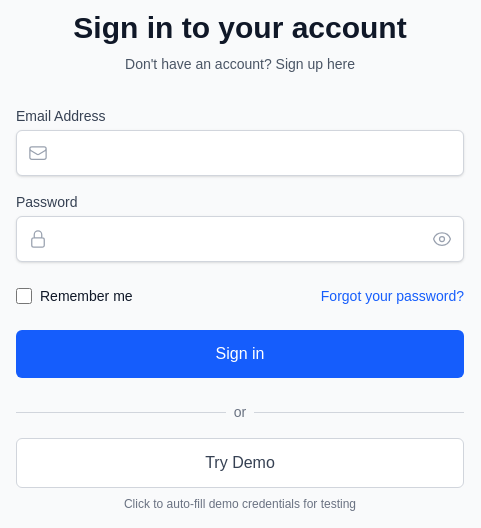
LoginPage › fills demo credentials when "Try Demo" button is clicked
Check: the field labelled "Email Address" is empty, box x1=16 y1=130 x2=464 y2=176
Check: the password field labelled "Password" is empty, box x1=16 y1=216 x2=464 y2=262
Note: Click demo button
Click the button "Try Demo" at {"x": 240, "y": 463}, box x1=16 y1=438 x2=464 y2=488
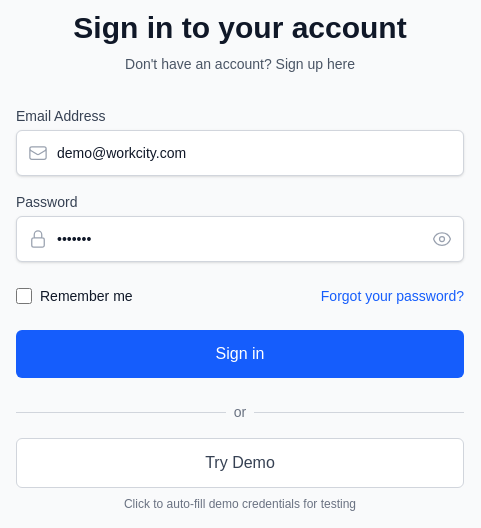
Check: the field labelled "Email Address" holds "demo@workcity.com", box x1=16 y1=130 x2=464 y2=176
Check: the password field labelled "Password" holds "demo123", box x1=16 y1=216 x2=464 y2=262
